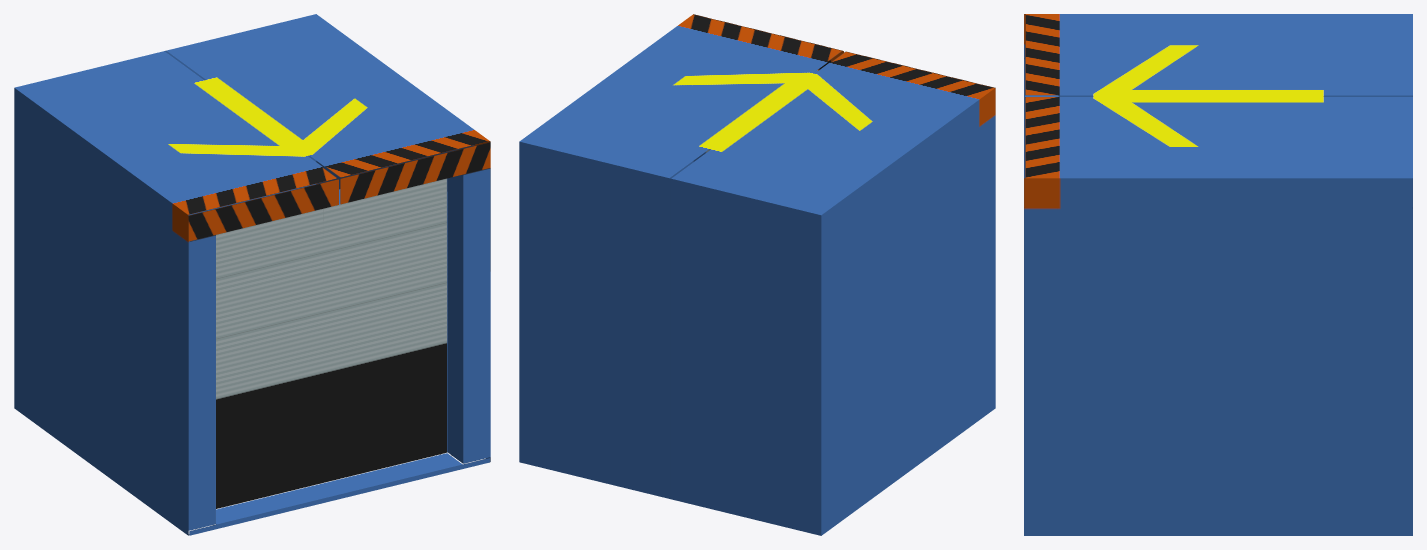
Rendered from Entrance.dae.
The picture shows the model from 3 angles, left to right: view 1: azimuth 30°, elevation 25°; view 2: azimuth 150°, elevation 25°; view 3: azimuth 270°, elevation 25°; orthographic projection. The views are drawn at different scales.
Parts seen in each view (by area): view 1: Cube; view 2: Cube; view 3: Cube.
Part boxes in pixels (left/top/right/bottom): Cube: left=14, top=14, right=490, bottom=535; Cube: left=519, top=14, right=995, bottom=535; Cube: left=1024, top=14, right=1412, bottom=535.
Size of the model in its own units: 0.8 by 0.8 by 0.8117.
Materials: 1 (1 with a texture image).
